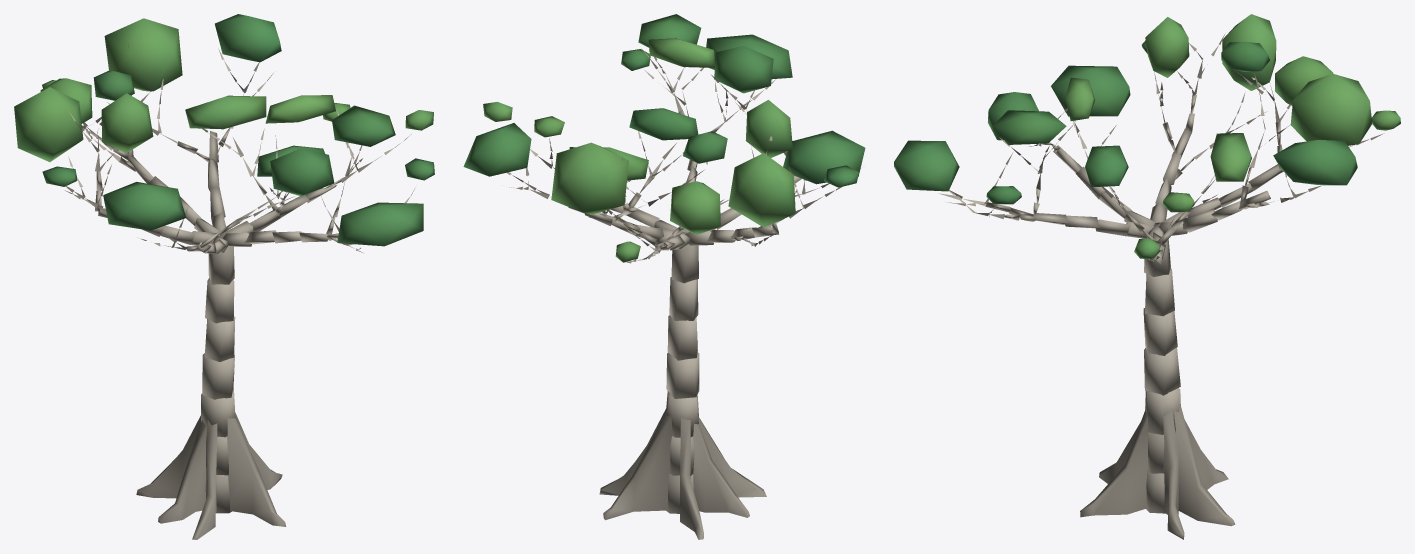
Rendered from tree_buttress_LOD1.glb.
The picture shows the model from 3 angles, left to right: view 1: azimuth 30°, elevation 25°; view 2: azimuth 150°, elevation 25°; view 3: azimuth 270°, elevation 25°; orthographic projection. The views are drawn at different scales.
Visible parts, largest first — view 1: tree_buttress_LOD1; view 2: tree_buttress_LOD1; view 3: tree_buttress_LOD1.
Boxes of the visible parts, left/top/right/bottom form: tree_buttress_LOD1: left=14, top=14, right=434, bottom=539; tree_buttress_LOD1: left=463, top=14, right=865, bottom=539; tree_buttress_LOD1: left=894, top=14, right=1400, bottom=539.
Bounding box in the file's own units: 13.5 × 14.63 × 15.13.
